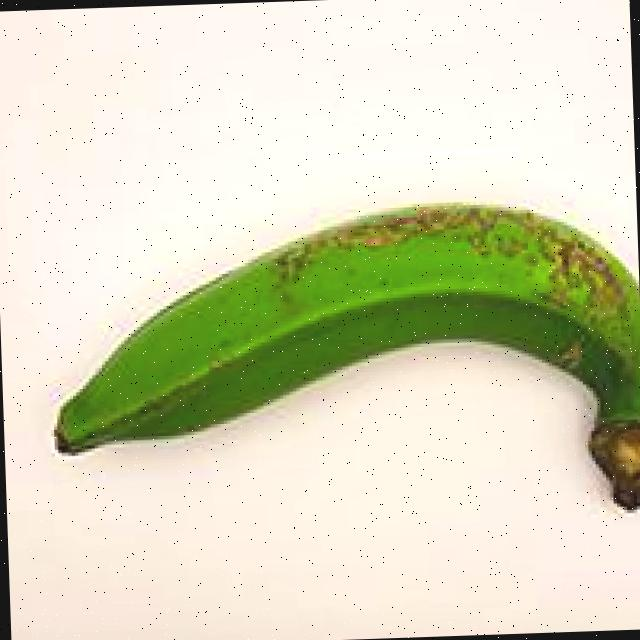Raw: (18, 172, 640, 563)
